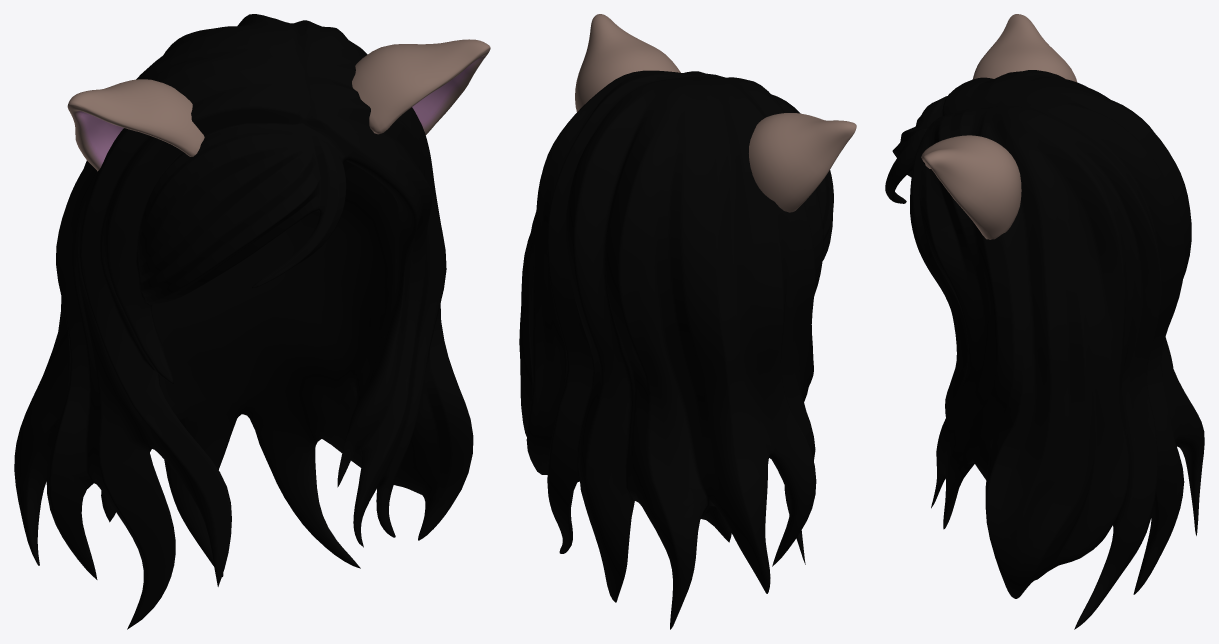
File: Brown_hair_with_cat_ears.fbx
3 views of the same model, side by side, from view 1: azimuth 30°, elevation 25°; view 2: azimuth 150°, elevation 25°; view 3: azimuth 270°, elevation 25° (orthographic). The views are drawn at different scales.
Parts seen in each view (by area): view 1: node_id31, node_id33; view 2: node_id31, node_id33; view 3: node_id31, node_id33.
Part boxes in pixels (x1=…): node_id31: x1=14, y1=14, x2=473, y2=629; node_id33: x1=67, y1=39, x2=490, y2=171; node_id31: x1=519, y1=70, x2=833, y2=629; node_id33: x1=575, y1=14, x2=856, y2=212; node_id31: x1=885, y1=70, x2=1204, y2=629; node_id33: x1=921, y1=14, x2=1076, y2=239.
Bounding box in the file's own units: 0.3452 × 0.4951 × 0.2877.
Materials: 2 (2 with a texture image).
